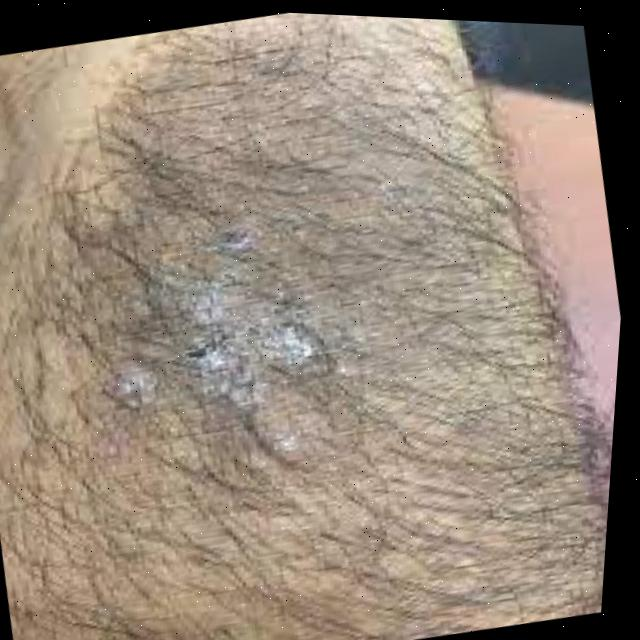Eczema: (29, 50, 392, 480)
